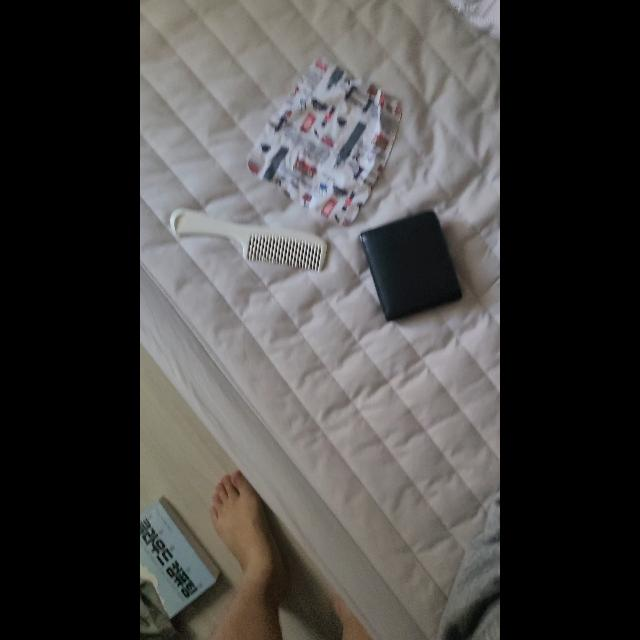COMB: (170, 208, 326, 272)
Glasses cleaning cloth: (247, 56, 403, 226)
WALLET: (360, 210, 462, 322)
